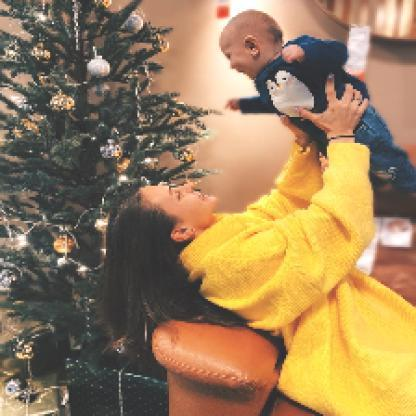child: (217, 10, 416, 198)
